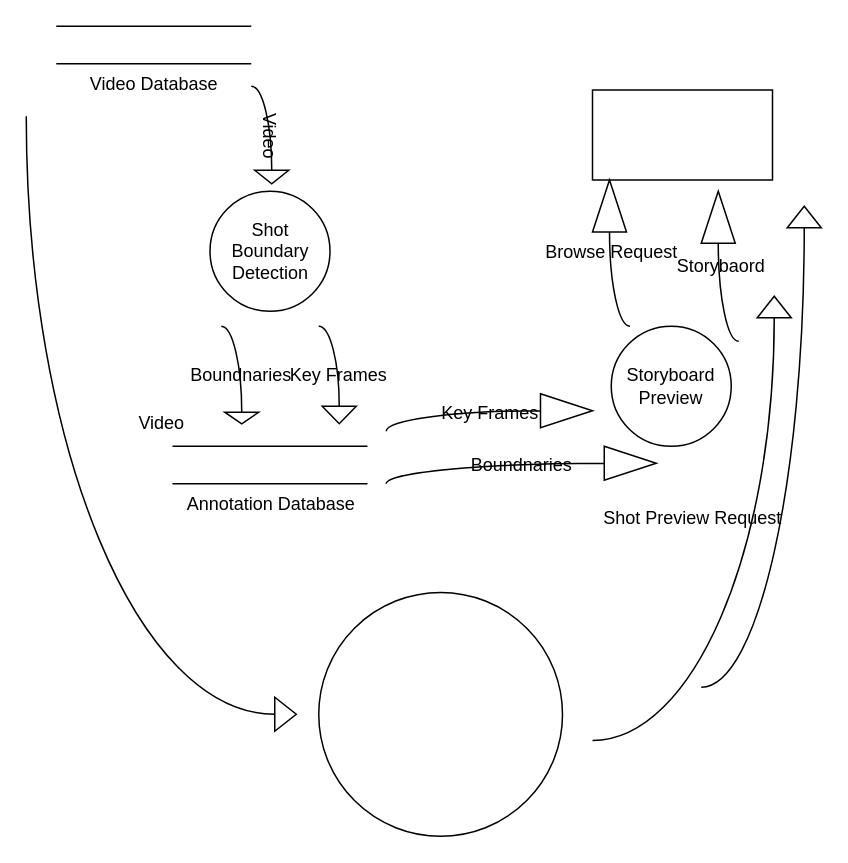
Some shapes in this 848 by 863 pixel diagram are drawn without their labels. The shapes that lost their labels are listed below. From the top down, each one's centre as x and y in pixels, then its label:
At point (681, 134): "User".
At point (760, 446): "Shot".
At point (439, 713): "Shot Preview".
